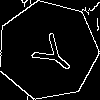Y: (23, 25, 80, 81)
